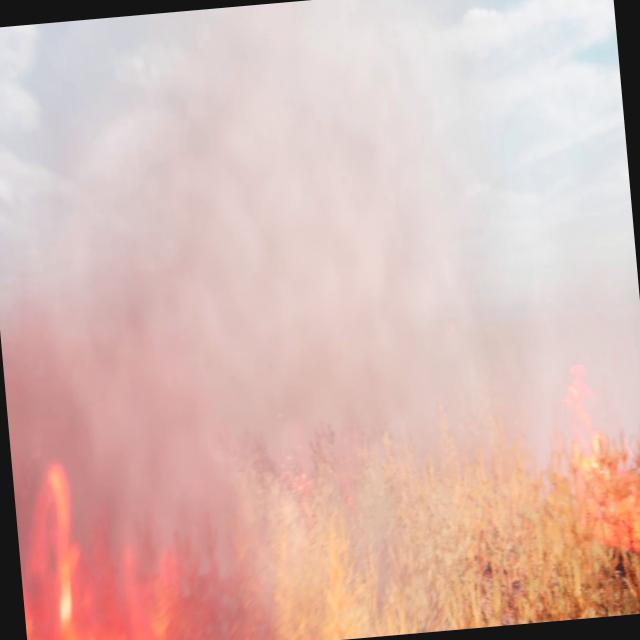fire: (10, 438, 190, 640), (556, 347, 640, 564)
smoke: (0, 0, 640, 561)
